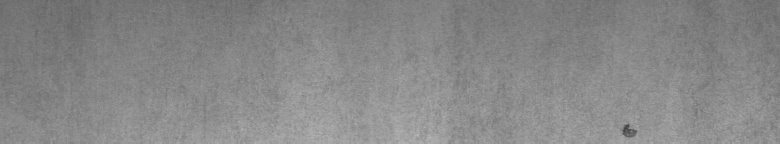fi: (616, 116, 640, 136)
